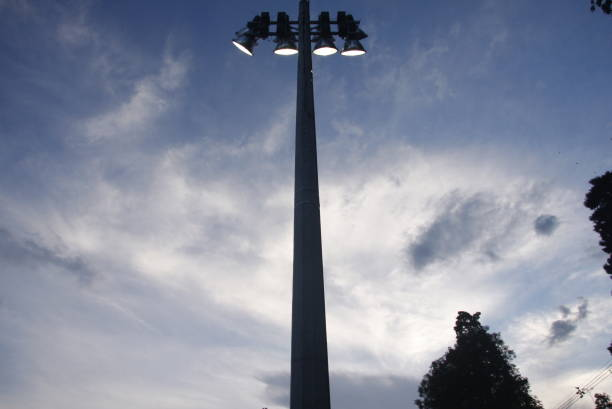light_pole: (284, 82, 330, 409)
